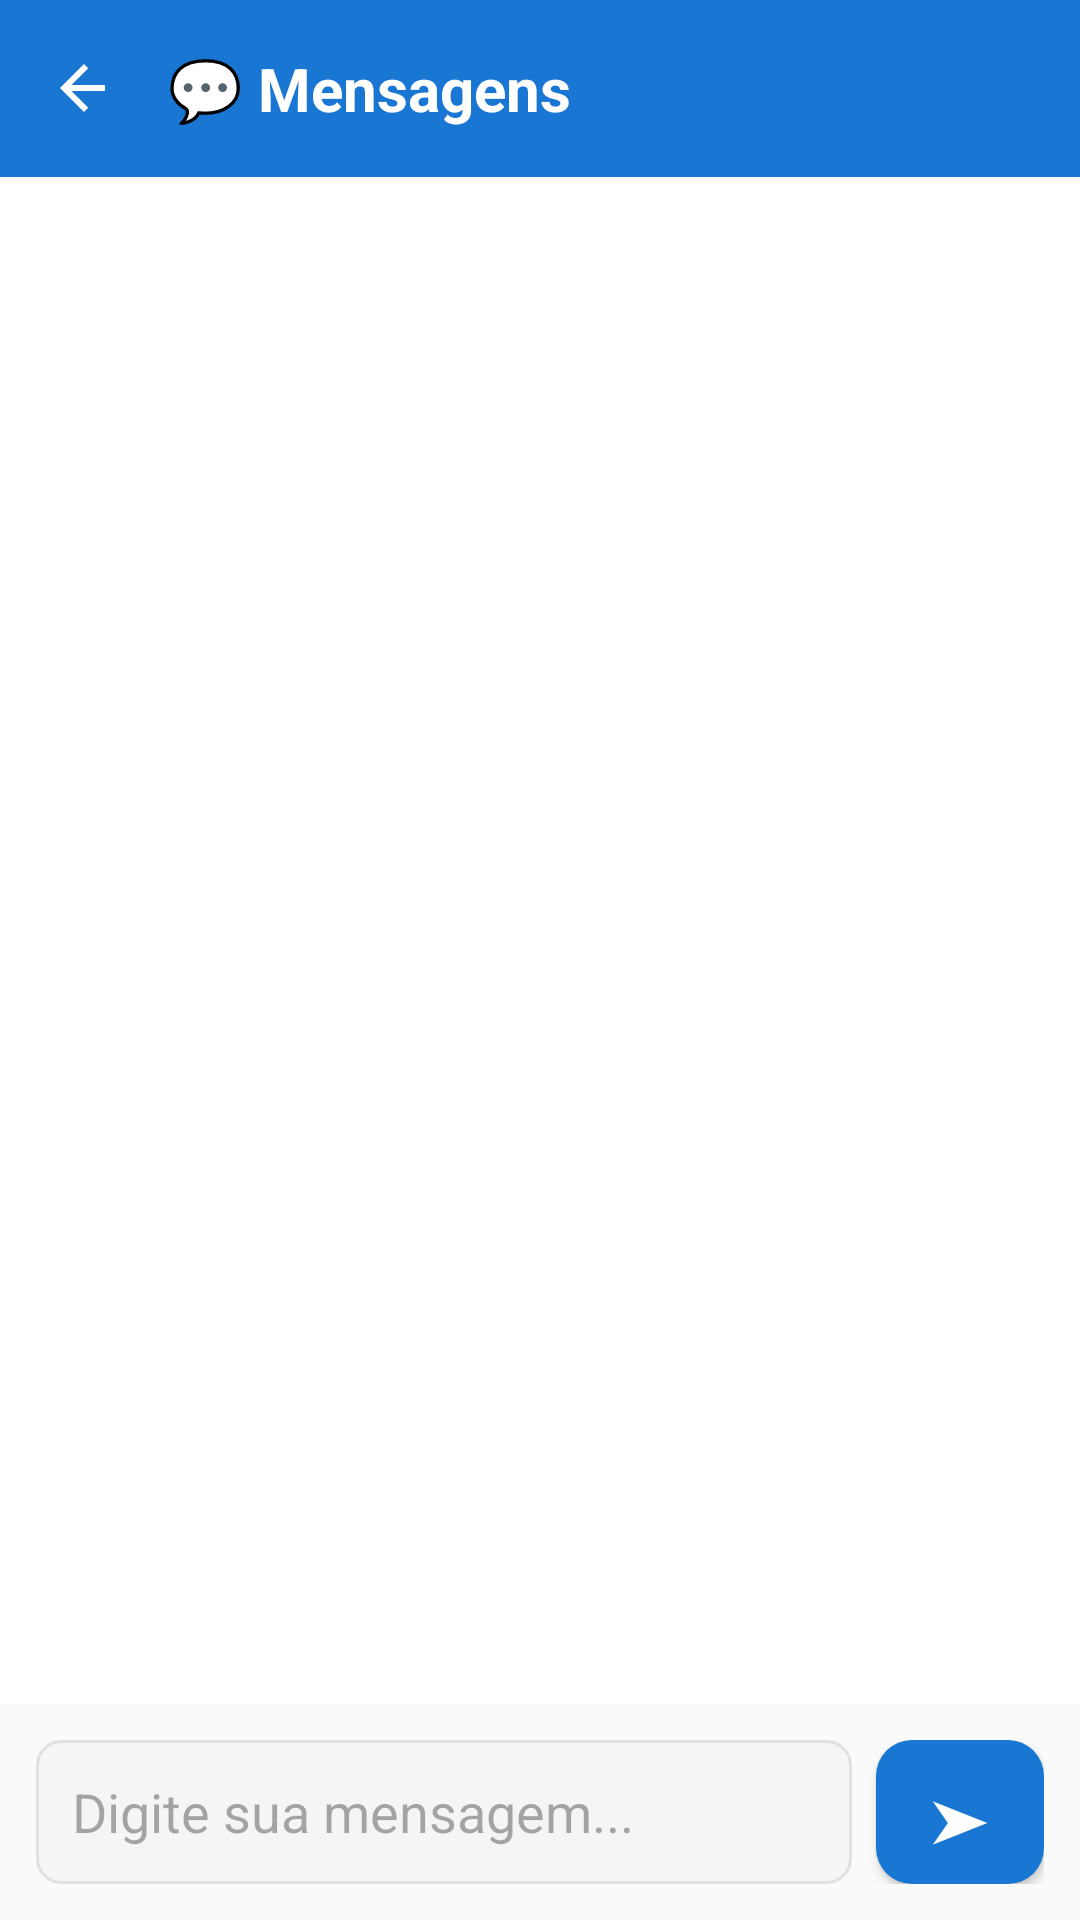

Where to tap for icons on this 1080 x 1920 app screen, as (x,y):
arrow back: (82,88)
